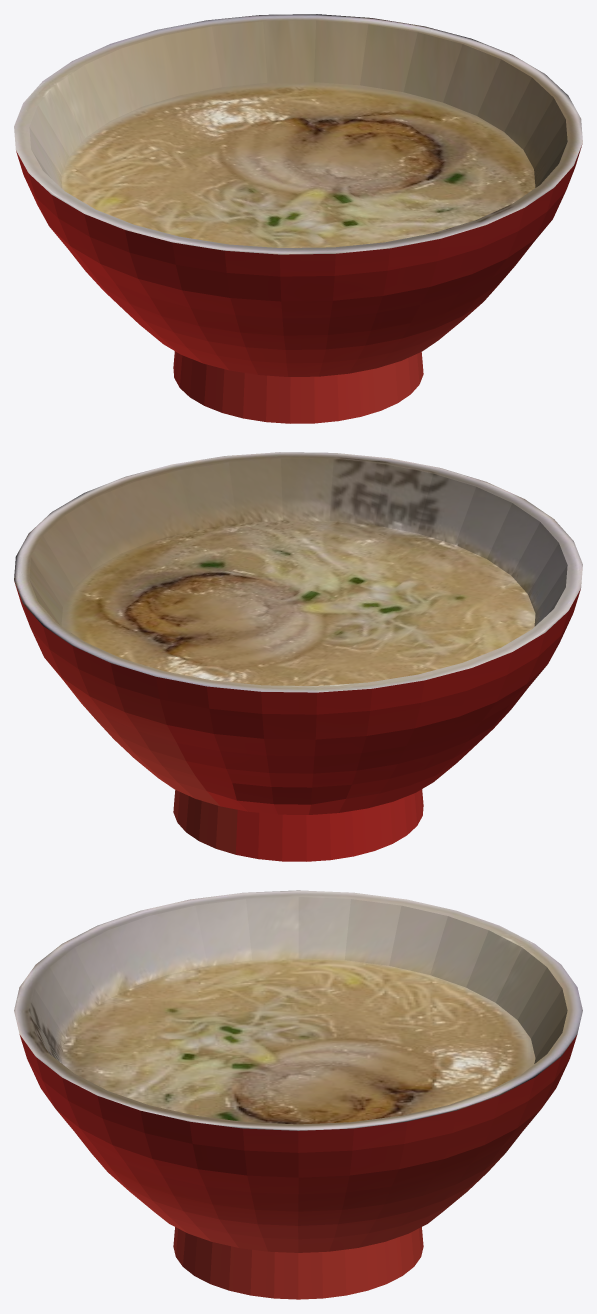
The model's file is unari.fbx.
The picture shows the model from 3 angles, top to bottom: view 1: azimuth 30°, elevation 25°; view 2: azimuth 150°, elevation 25°; view 3: azimuth 270°, elevation 25°; orthographic projection.
Visible parts, largest first — view 1: Cylinder; view 2: Cylinder; view 3: Cylinder.
Boxes of the visible parts, left/top/right/bottom form: Cylinder: left=14, top=14, right=582, bottom=423; Cylinder: left=14, top=452, right=582, bottom=861; Cylinder: left=14, top=890, right=582, bottom=1299.
Size of the model in its own units: 430 by 197 by 430.
Materials: 1 (1 with a texture image).
